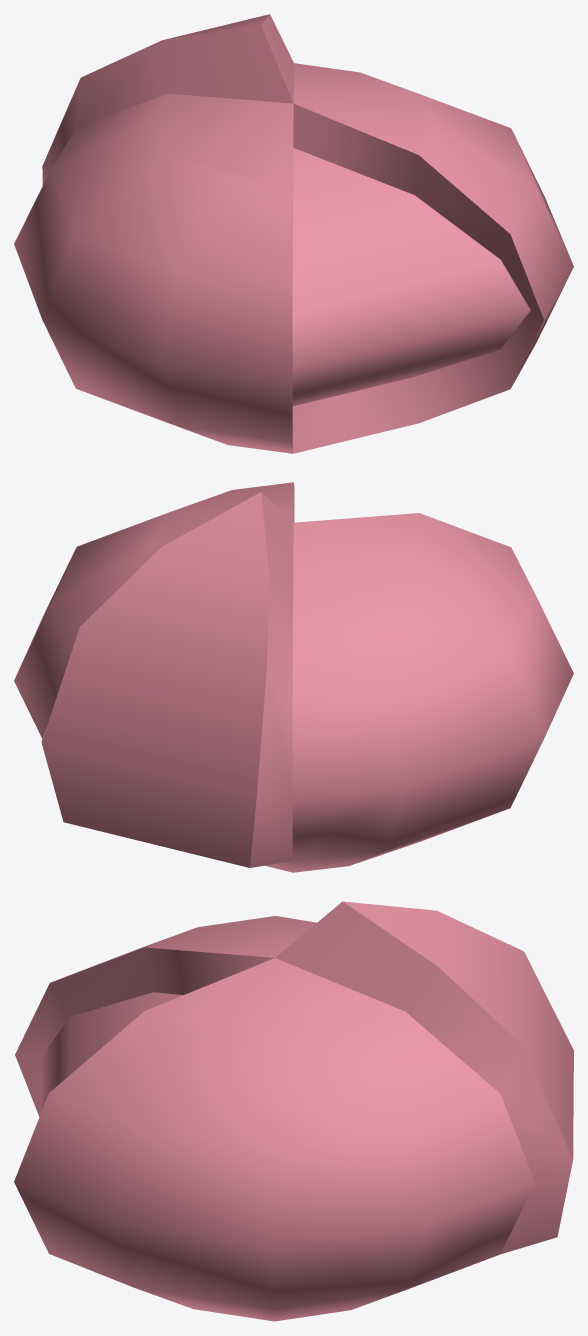
File: Enemy.fbx
3 views of the same model, one above another, from view 1: azimuth 30°, elevation 25°; view 2: azimuth 150°, elevation 25°; view 3: azimuth 270°, elevation 25° (orthographic). The views are drawn at different scales.
Parts seen in each view (by area): view 1: Enemy; view 2: Enemy; view 3: Enemy.
Boxes of the visible parts, x1=… form: Enemy: x1=14, y1=14, x2=573, y2=453; Enemy: x1=14, y1=482, x2=573, y2=872; Enemy: x1=14, y1=901, x2=573, y2=1321.
Bounding box in the file's own units: 1.87 × 1.3 × 1.74.
